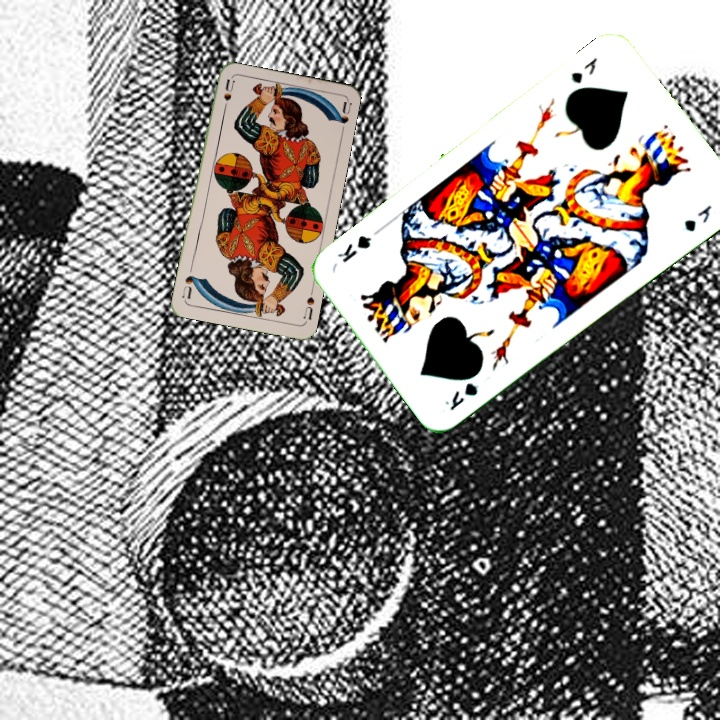GK: (441, 378, 481, 414), (567, 53, 600, 86)
SU: (219, 76, 236, 117), (299, 293, 317, 324)
